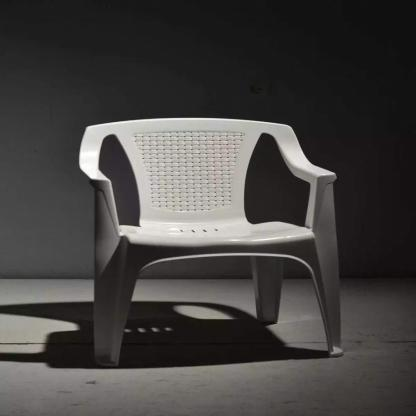chair: (77, 118, 355, 366)
